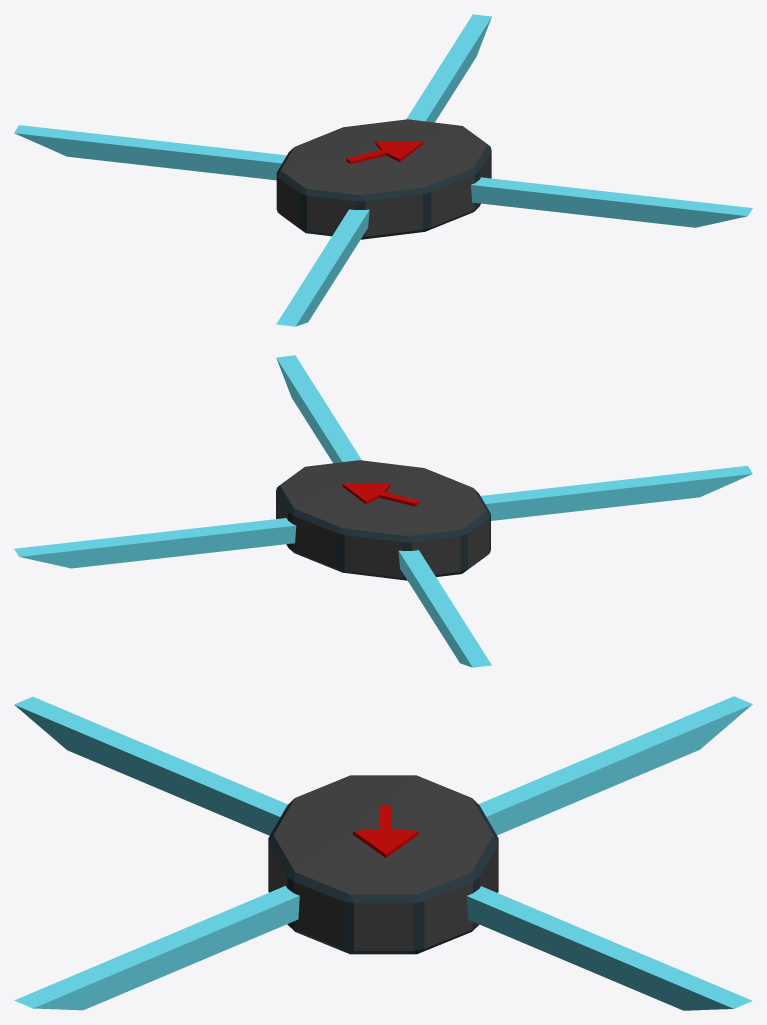
Rendered from copter.obj.
The picture shows the model from 3 angles, top to bottom: view 1: azimuth 30°, elevation 25°; view 2: azimuth 150°, elevation 25°; view 3: azimuth 270°, elevation 25°; orthographic projection. The views are drawn at different scales.
Parts seen in each view (by area): view 1: base_Цилиндр; view 2: base_Цилиндр; view 3: base_Цилиндр.
Boxes of the visible parts, x1,y1,x2,y2 form: base_Цилиндр: (14,14,752,326); base_Цилиндр: (14,355,752,667); base_Цилиндр: (14,696,752,1010).
Size of the model in its own units: 5.52 by 0.5489 by 5.52.
